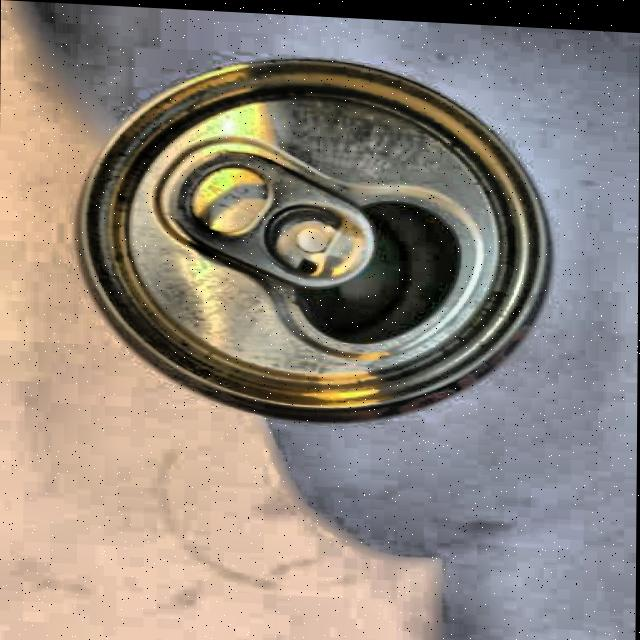metal: (73, 42, 560, 437)
